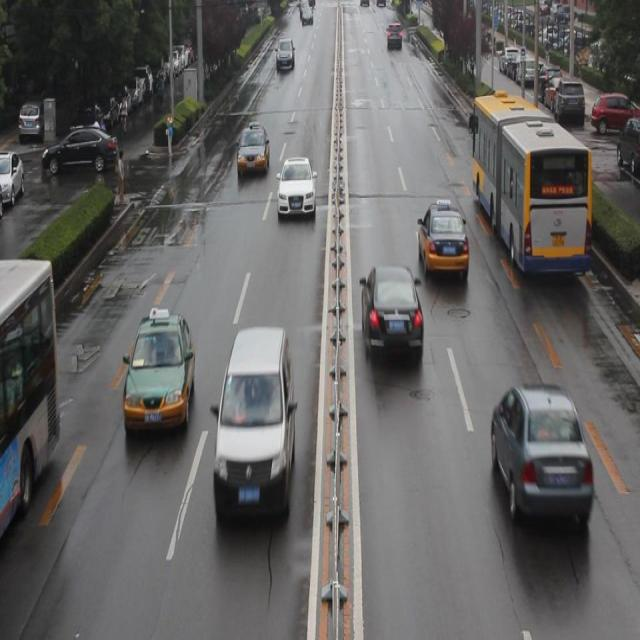car: (489, 384, 591, 530), (124, 314, 194, 435), (358, 263, 422, 366), (416, 203, 466, 280), (275, 156, 315, 221), (235, 125, 270, 177)
truck: (214, 326, 295, 517)
van: (466, 95, 588, 274), (1, 258, 60, 523)
